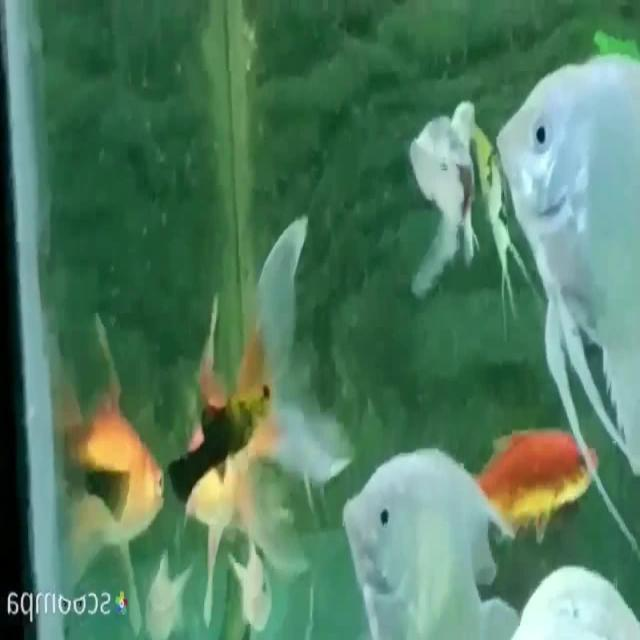GoldFish: (449, 425, 606, 547)
